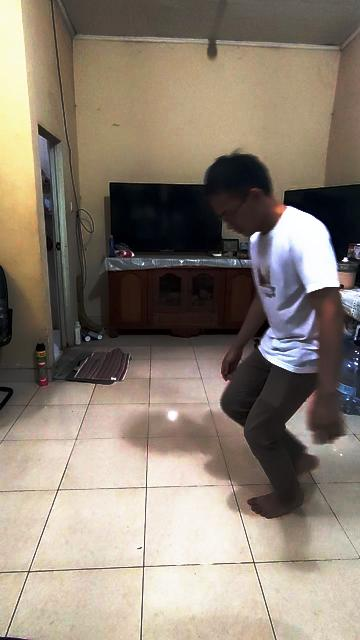jatuh: (202, 149, 344, 521)
